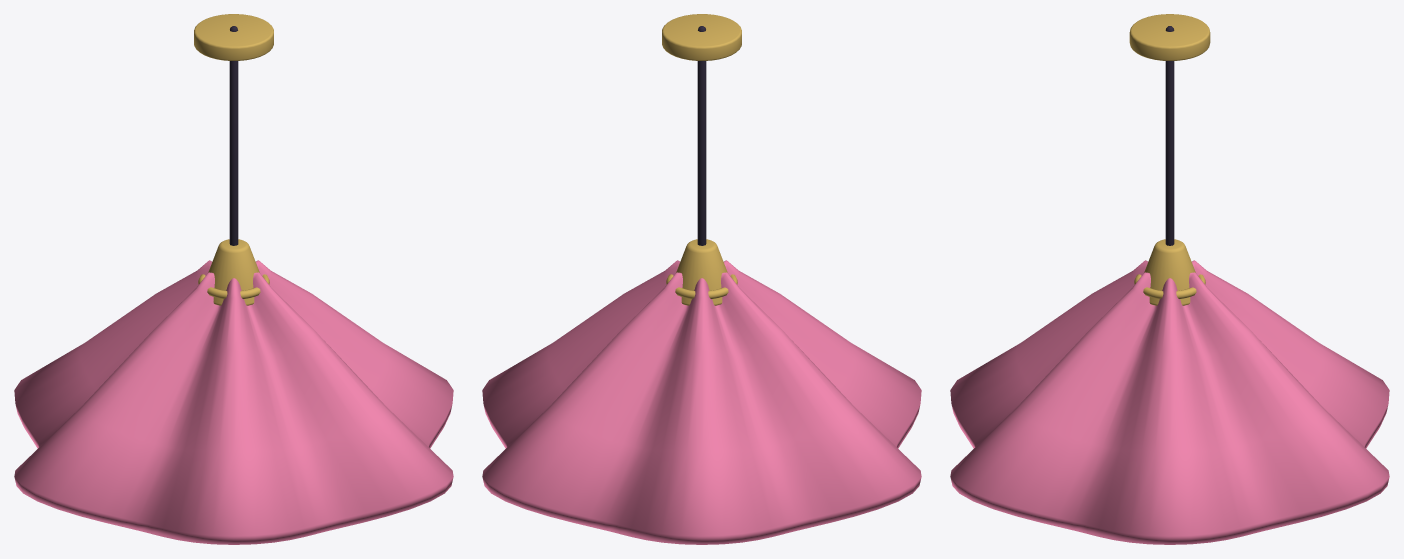
File: pendant_pink.glb
The picture shows the model from 3 angles, left to right: view 1: azimuth 30°, elevation 25°; view 2: azimuth 150°, elevation 25°; view 3: azimuth 270°, elevation 25°; orthographic projection.
Visible parts, largest first — view 1: Six_lobe_enamel_shade, Ceiling_rose, Teal_top_cap, Adjustable_textile_cable; view 2: Six_lobe_enamel_shade, Ceiling_rose, Teal_top_cap, Adjustable_textile_cable; view 3: Six_lobe_enamel_shade, Ceiling_rose, Teal_top_cap, Adjustable_textile_cable.
Boxes of the visible parts, left/top/right/bottom form: Six_lobe_enamel_shade: left=14, top=260, right=453, bottom=544; Ceiling_rose: left=194, top=14, right=273, bottom=60; Teal_top_cap: left=208, top=239, right=259, bottom=305; Adjustable_textile_cable: left=229, top=26, right=238, bottom=245; Six_lobe_enamel_shade: left=482, top=260, right=921, bottom=544; Ceiling_rose: left=662, top=14, right=741, bottom=60; Teal_top_cap: left=676, top=239, right=727, bottom=305; Adjustable_textile_cable: left=697, top=26, right=706, bottom=245; Six_lobe_enamel_shade: left=950, top=260, right=1389, bottom=544; Ceiling_rose: left=1129, top=14, right=1210, bottom=60; Teal_top_cap: left=1144, top=239, right=1195, bottom=305; Adjustable_textile_cable: left=1165, top=26, right=1174, bottom=245.
Bounding box in the file's own units: 0.672 × 0.655 × 0.6003.
